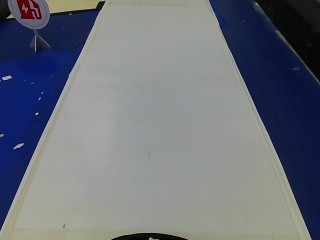battery: (6, 0, 56, 28)
